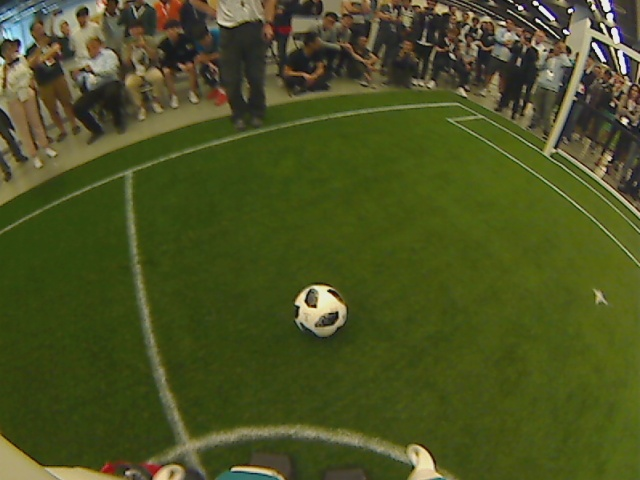ball: (291, 281, 349, 338)
